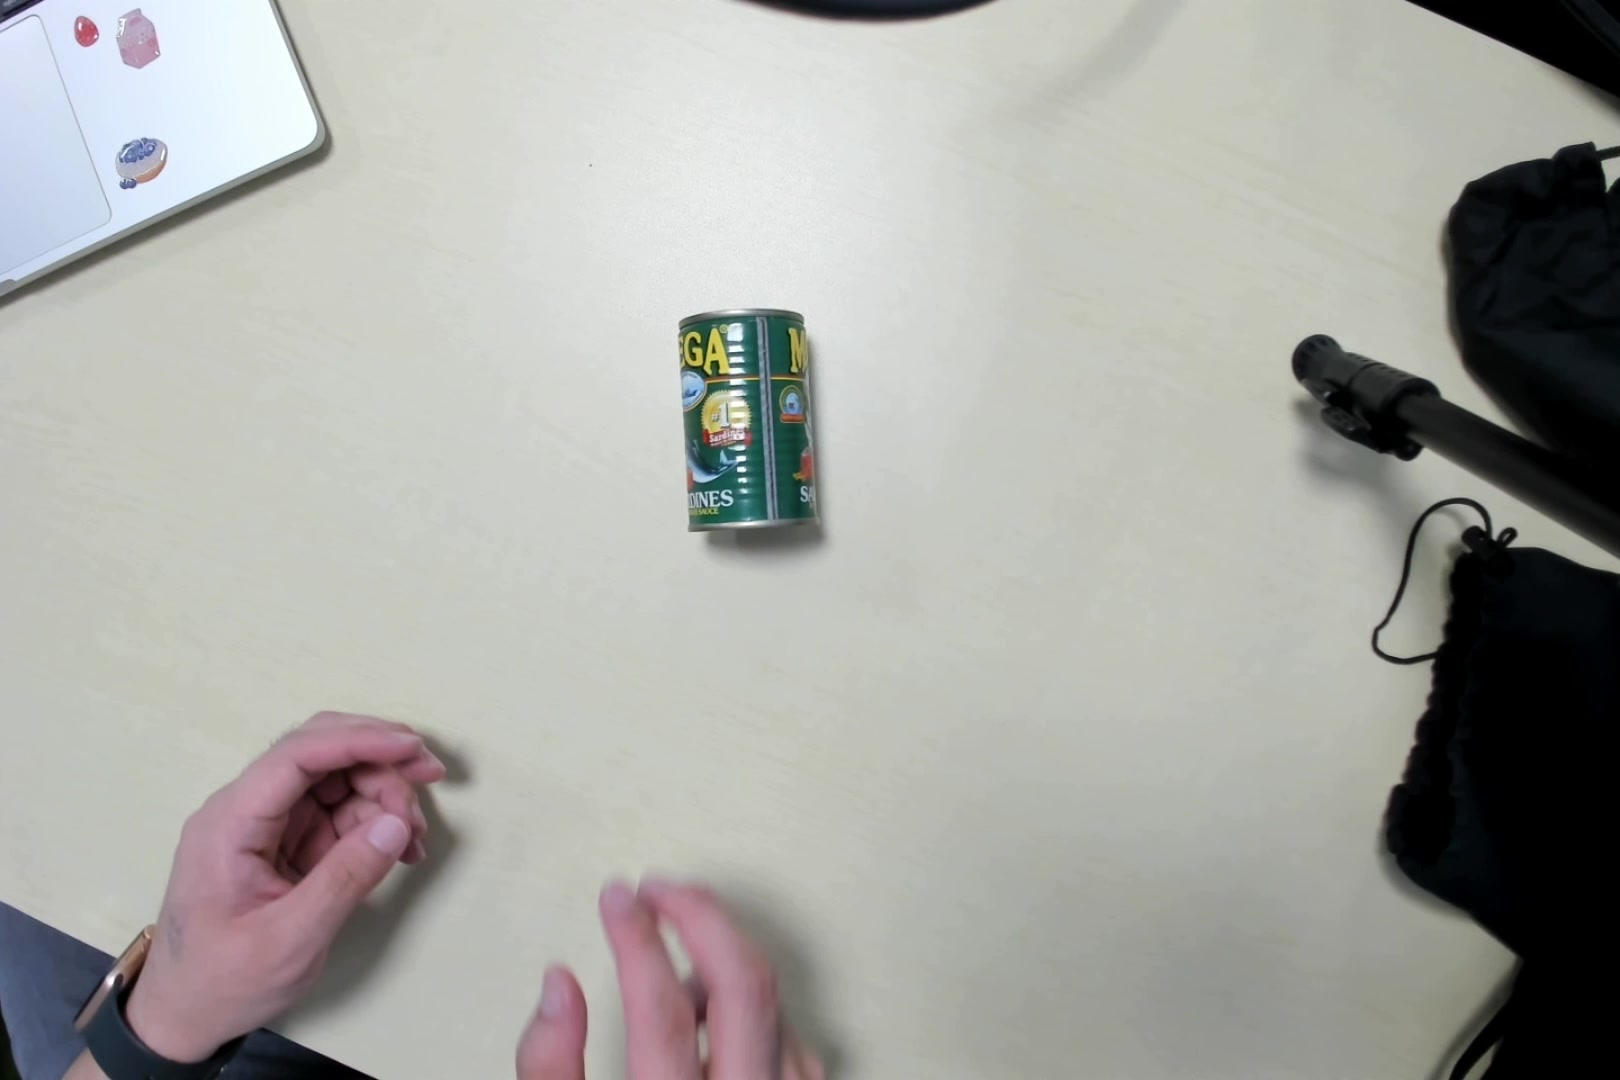CannedSardingMackerel_100-199g_NonHalal_NonHealthy: (674, 306, 822, 544)
